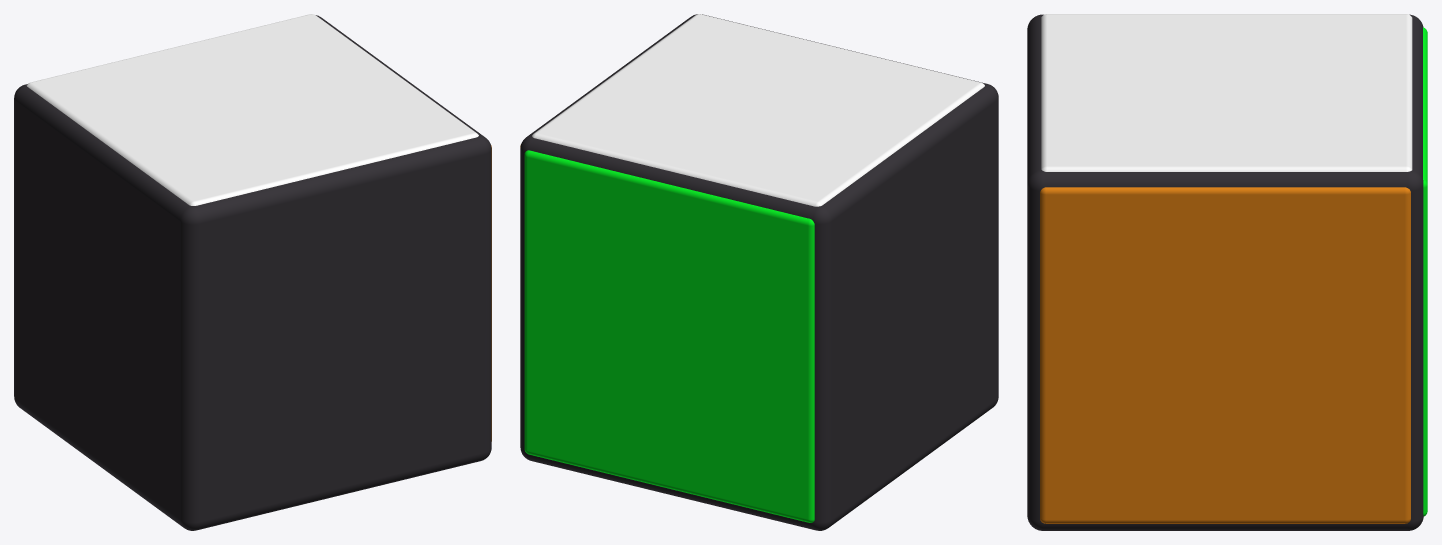
File: wogCorner.obj
3 renders of one model, left to right at view 1: azimuth 30°, elevation 25°; view 2: azimuth 150°, elevation 25°; view 3: azimuth 270°, elevation 25°, orthographic. The views are drawn at different scales.
Parts seen in each view (by area): view 1: 000_Base, 002_white; view 2: 003_green, 000_Base, 002_white; view 3: 001_orange, 002_white, 000_Base, 003_green.
Boxes of the visible parts, <box> form: 000_Base: <box>14,15,491,530</box>; 002_white: <box>26,14,478,205</box>; 003_green: <box>524,150,814,522</box>; 000_Base: <box>520,14,998,530</box>; 002_white: <box>532,14,984,206</box>; 001_orange: <box>1040,187,1410,523</box>; 002_white: <box>1041,14,1412,171</box>; 000_Base: <box>1027,14,1423,530</box>; 003_green: <box>1423,27,1427,516</box>.
Size of the model in its own units: 101 by 101 by 101.
